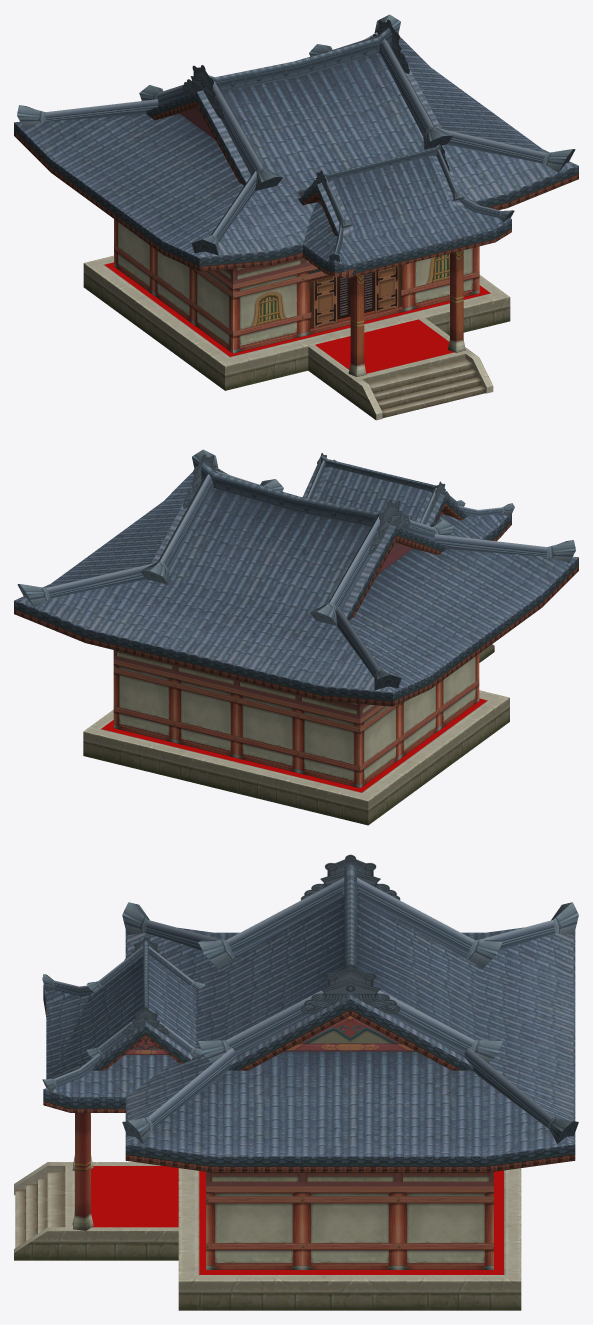
3 views of the same model, one above another, from view 1: azimuth 30°, elevation 25°; view 2: azimuth 150°, elevation 25°; view 3: azimuth 270°, elevation 25° (orthographic). The views are drawn at different scales.
Visible parts, largest first — view 1: gujian_417, gujian_414, gujian_411, gujian_421, gujian_420, gujian_413, gujian_418, gujian_412, gujian_419, gujian_410; view 2: gujian_417, gujian_420, gujian_414, gujian_411, gujian_419, gujian_413, gujian_410; view 3: gujian_417, gujian_420, gujian_414, gujian_411, gujian_413, gujian_419, gujian_410, gujian_412, gujian_416.
Boxes of the visible parts, <box> form: gujian_417: <box>14,37,578,278</box>; gujian_414: <box>83,255,510,420</box>; gujian_411: <box>17,14,575,262</box>; gujian_421: <box>233,246,479,353</box>; gujian_420: <box>114,219,232,353</box>; gujian_413: <box>104,262,490,373</box>; gujian_418: <box>303,263,408,335</box>; gujian_412: <box>366,354,486,417</box>; gujian_419: <box>214,250,465,376</box>; gujian_410: <box>182,19,449,199</box>; gujian_417: <box>14,465,578,706</box>; gujian_420: <box>113,654,479,787</box>; gujian_414: <box>83,644,509,825</box>; gujian_411: <box>17,449,575,690</box>; gujian_419: <box>113,650,378,718</box>; gujian_413: <box>101,698,487,792</box>; gujian_410: <box>183,453,449,554</box>; gujian_417: <box>43,896,575,1172</box>; gujian_420: <box>206,1186,493,1269</box>; gujian_414: <box>14,1162,521,1310</box>; gujian_411: <box>42,864,578,1143</box>; gujian_413: <box>91,1166,503,1274</box>; gujian_419: <box>72,1113,493,1230</box>; gujian_410: <box>122,854,400,1034</box>; gujian_412: <box>14,1166,65,1247</box>; gujian_416: <box>125,1016,416,1054</box>.
Size of the model in its own units: 1.56 by 1.02 by 1.65.
12 materials, 11 textured.
